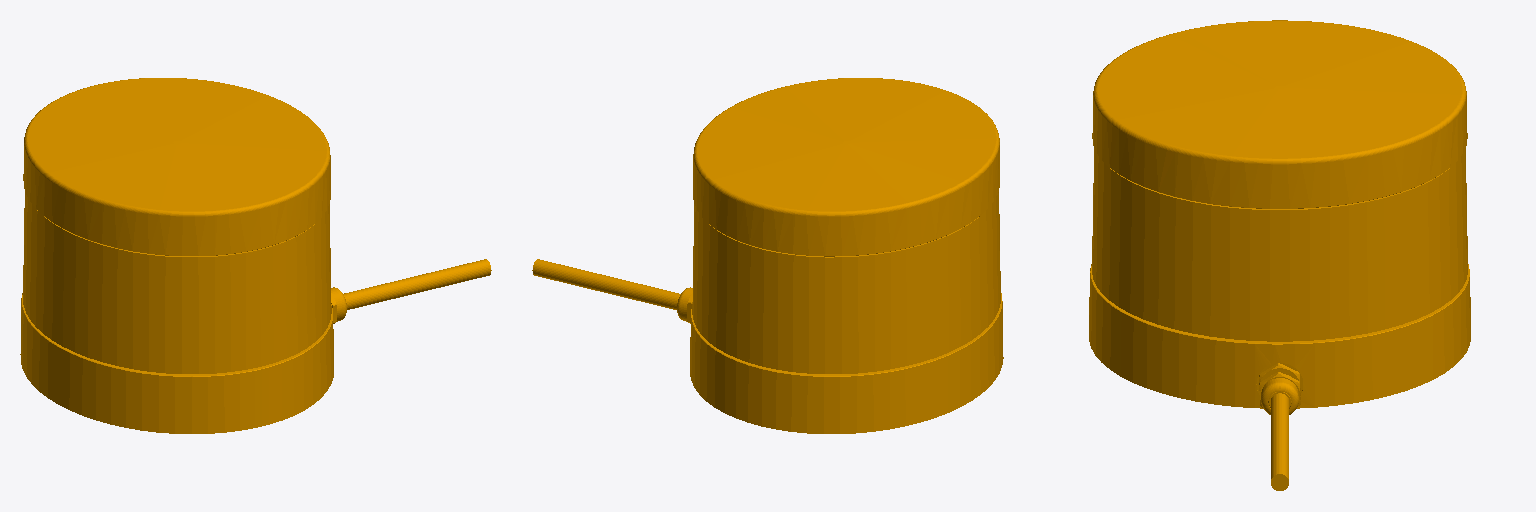
The robot description file, URDF, robot "nexus7":
<?xml version="1.0" ?>
<robot name="nexus7" xmlns:xacro="http://www.ros.org/wiki/xacro">
  <link name="base_link">
    <visual>
      <origin rpy="0 0 0" xyz="0 0 0"/>
      <geometry>
        <mesh filename="package://nexus7_description/meshes/VLP16.dae" scale="1.0 1.0 1.0"/>
      </geometry>
    </visual>
    <collision>
      <origin rpy="0 0 0" xyz="0 0 0"/>
      <geometry>
        <mesh filename="package://nexus7_description/meshes/VLP16.dae" scale="1.0 1.0 1.0"/>
      </geometry>
    </collision>
  </link>
</robot>

--- What the picture shows (computed from the rendered views, not written in the file) ---
The picture shows the robot from 3 angles, left to right: view 1: azimuth 30°, elevation 25°; view 2: azimuth 150°, elevation 25°; view 3: azimuth 270°, elevation 25°; orthographic projection.
Robot: nexus7 — 1 links, 0 joints (none); root link base_link; default pose: every joint at zero.
Links seen in each view (by area): view 1: base_link; view 2: base_link; view 3: base_link.
Boxes of the visible links, bbox=[...] form: base_link: bbox=[20, 78, 491, 433]; base_link: bbox=[532, 78, 1003, 433]; base_link: bbox=[1089, 20, 1470, 490].
Size in the robot's own frame: 0.1524 by 0.1016 by 0.073 metres.
1 mesh visuals loaded from 1 distinct referenced files (1 Collada DAE).